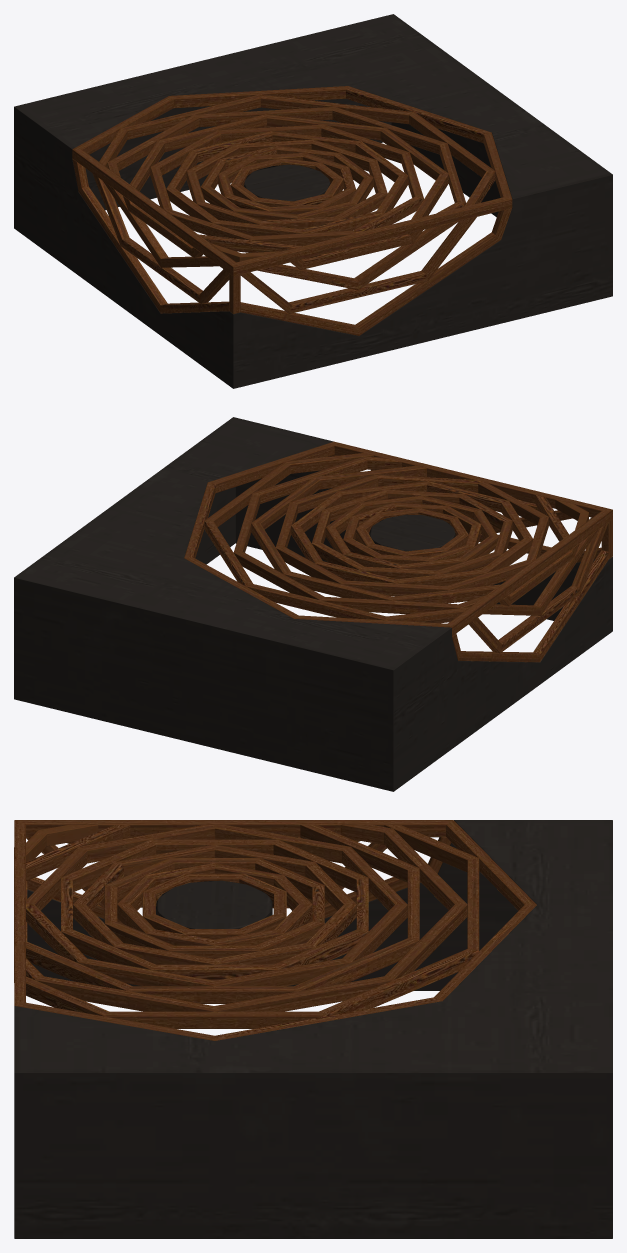
The model's file is modern_coffee_table_02.glb.
3 renders of one model, top to bottom at view 1: azimuth 30°, elevation 25°; view 2: azimuth 150°, elevation 25°; view 3: azimuth 270°, elevation 25°, orthographic. The views are drawn at different scales.
Visible parts, largest first — view 1: modern_coffee_table_02; view 2: modern_coffee_table_02; view 3: modern_coffee_table_02.
Part boxes in pixels (x1=…): modern_coffee_table_02: x1=14, y1=14, x2=612, y2=388; modern_coffee_table_02: x1=14, y1=417, x2=612, y2=791; modern_coffee_table_02: x1=14, y1=820, x2=612, y2=1238.
Bounding box in the file's own units: 1.2 × 0.3692 × 1.2.
Materials: 2 (2 with a texture image).
